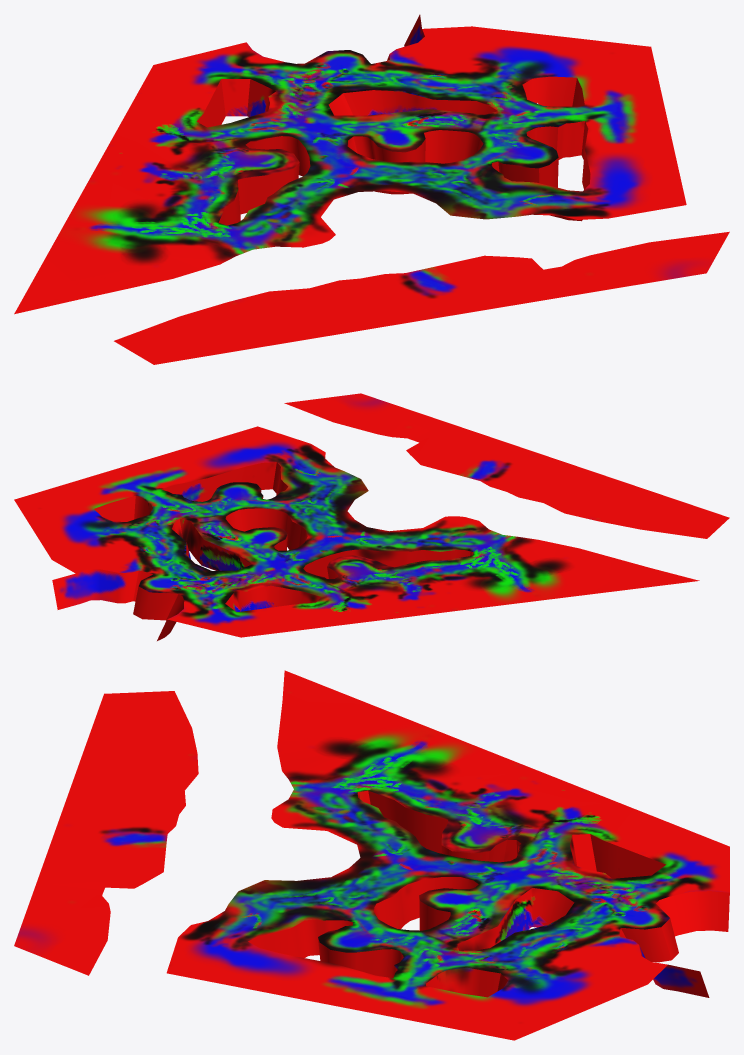
The model's file is fb0_dddtu01.FBX.
The picture shows the model from 3 angles, top to bottom: view 1: azimuth 30°, elevation 25°; view 2: azimuth 150°, elevation 25°; view 3: azimuth 270°, elevation 25°; orthographic projection. The views are drawn at different scales.
Visible parts, largest first — view 1: fb0_dddtu01_001; view 2: fb0_dddtu01_001; view 3: fb0_dddtu01_001.
Part boxes in pixels (left/top/right/bottom): fb0_dddtu01_001: left=14, top=14, right=729, bottom=364; fb0_dddtu01_001: left=14, top=393, right=729, bottom=640; fb0_dddtu01_001: left=14, top=670, right=729, bottom=1040.
Size of the model in its own units: 21992 by 996 by 17882.
